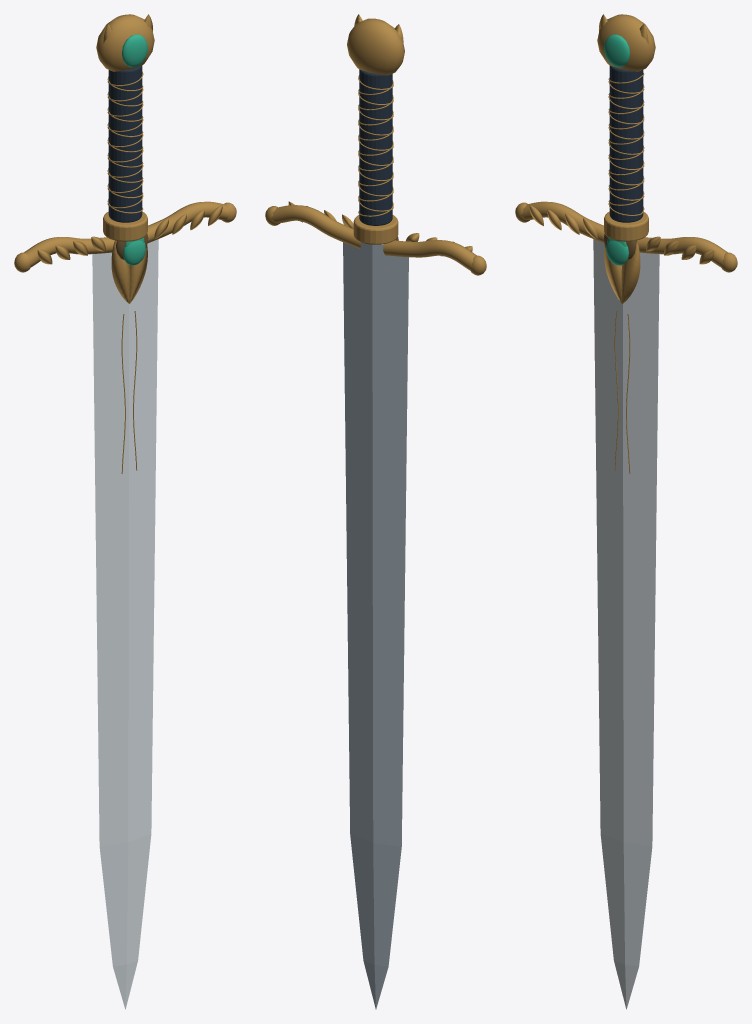
Rendered from EDH_Heinrich_Sword.glb.
The picture shows the model from 3 angles, left to right: view 1: azimuth 30°, elevation 25°; view 2: azimuth 150°, elevation 25°; view 3: azimuth 330°, elevation 25°; orthographic projection.
Parts seen in each view (by area): view 1: Heinrich | diamond blade, Heinrich | leather grip, Heinrich | pommel, Sword | swept guard, Sword | swept guard.001, Heinrich | grip collar, Sword | langet, Sword | crossed fine grip wire, Heinrich | pommel jade, Sword | crossed fine grip wire.001; view 2: Heinrich | diamond blade, Heinrich | leather grip, Heinrich | pommel, Sword | swept guard, Sword | swept guard.001, Heinrich | grip collar, Sword | crossed fine grip wire.001, Sword | crossed fine grip wire; view 3: Heinrich | diamond blade, Heinrich | leather grip, Heinrich | pommel, Sword | swept guard.001, Sword | swept guard, Heinrich | grip collar, Sword | langet.001, Sword | crossed fine grip wire.001, Heinrich | pommel jade, Sword | crossed fine grip wire.
Boxes of the visible parts, x1,y1,x2,y2 form: Heinrich | diamond blade: (92, 239, 158, 1009); Heinrich | leather grip: (108, 65, 142, 222); Heinrich | pommel: (96, 14, 154, 71); Sword | swept guard: (24, 237, 116, 267); Sword | swept guard.001: (147, 201, 231, 243); Heinrich | grip collar: (103, 211, 147, 241); Sword | langet: (111, 240, 130, 303); Sword | crossed fine grip wire: (107, 76, 143, 213); Heinrich | pommel jade: (122, 34, 147, 67); Sword | crossed fine grip wire.001: (107, 71, 143, 208); Heinrich | diamond blade: (343, 242, 408, 1009); Heinrich | leather grip: (359, 69, 392, 225); Heinrich | pommel: (347, 18, 404, 75); Sword | swept guard: (383, 240, 476, 270); Sword | swept guard.001: (270, 205, 361, 249); Heinrich | grip collar: (353, 215, 398, 244); Sword | crossed fine grip wire.001: (358, 80, 393, 216); Sword | crossed fine grip wire: (358, 75, 393, 211); Heinrich | diamond blade: (593, 239, 659, 1009); Heinrich | leather grip: (609, 65, 643, 222); Heinrich | pommel: (597, 14, 655, 71); Sword | swept guard.001: (635, 237, 727, 267); Sword | swept guard: (520, 201, 604, 243); Heinrich | grip collar: (604, 211, 648, 241); Sword | langet.001: (621, 240, 640, 303); Sword | crossed fine grip wire.001: (608, 76, 644, 213); Heinrich | pommel jade: (604, 34, 629, 67); Sword | crossed fine grip wire: (608, 73, 644, 215).
Bounding box in the file's own units: 0.272 × 1.17 × 0.05.
